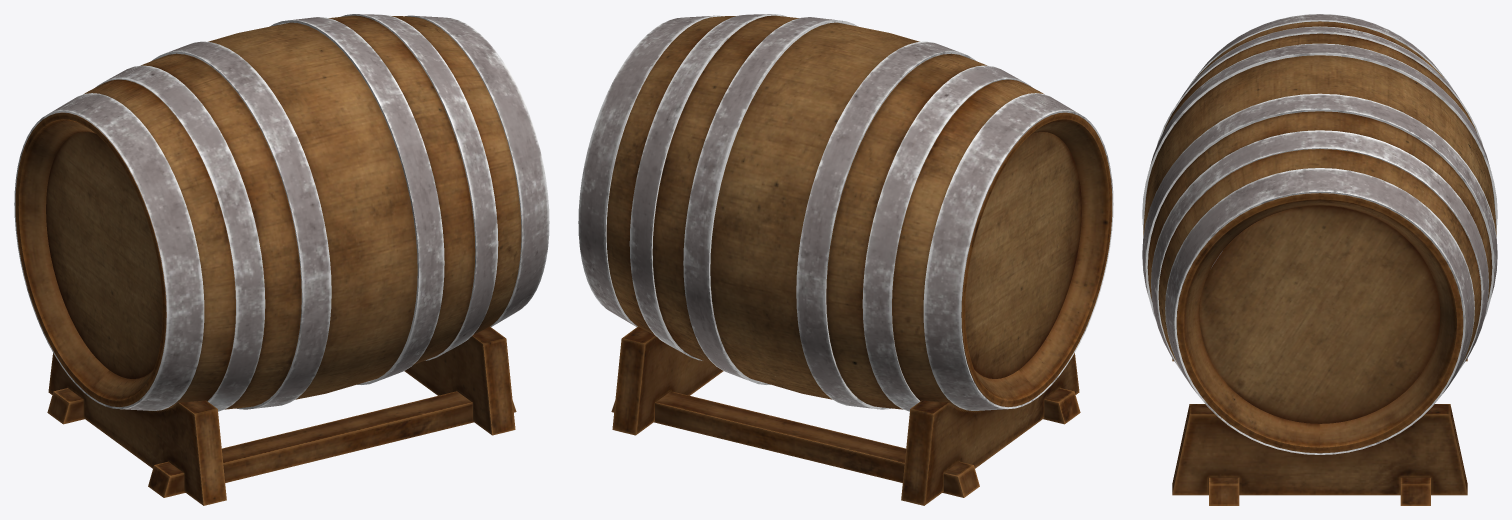
Rendered from model_barrel.obj.
3 renders of one model, left to right at view 1: azimuth 30°, elevation 25°; view 2: azimuth 150°, elevation 25°; view 3: azimuth 270°, elevation 25°, orthographic. The views are drawn at different scales.
Parts seen in each view (by area): view 1: model_barrel; view 2: model_barrel; view 3: model_barrel.
Part boxes in pixels (left/top/right/bottom): model_barrel: left=14, top=14, right=549, bottom=505; model_barrel: left=578, top=14, right=1113, bottom=505; model_barrel: left=1142, top=14, right=1497, bottom=505.
Bounding box in the file's own units: 2.84 × 2.62 × 2.41.
1 material, 1 textured.
